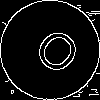O: (25, 25, 85, 85)
